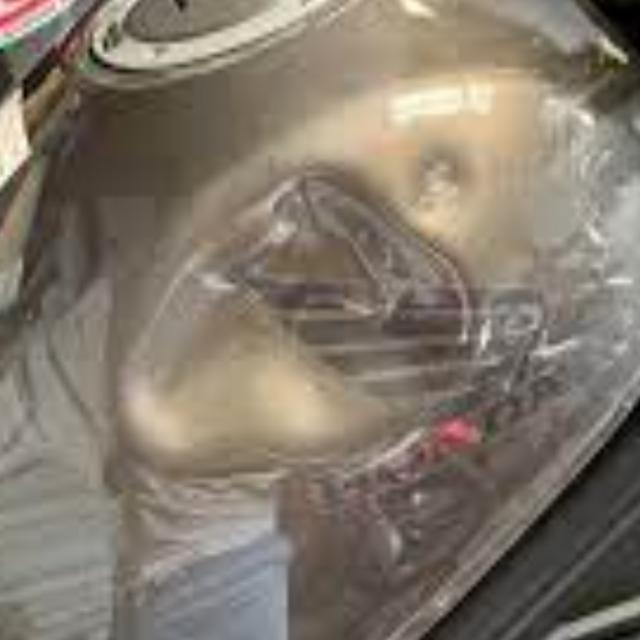dents: (140, 168, 486, 488)
